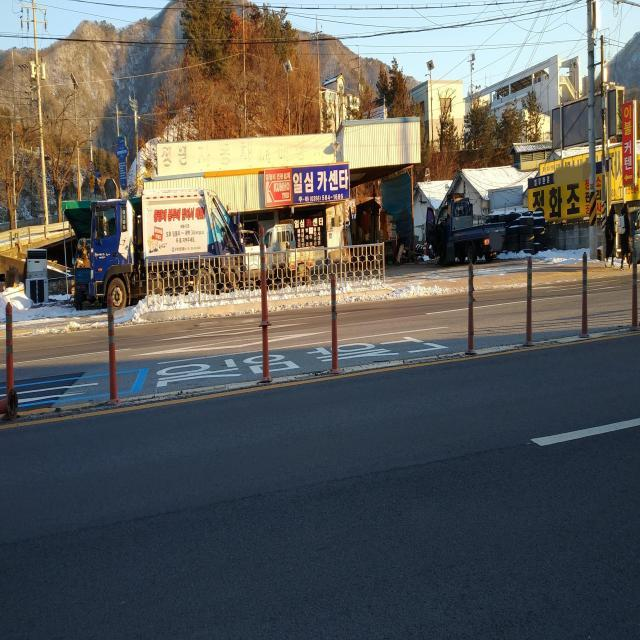pole: (256, 219, 272, 383)
